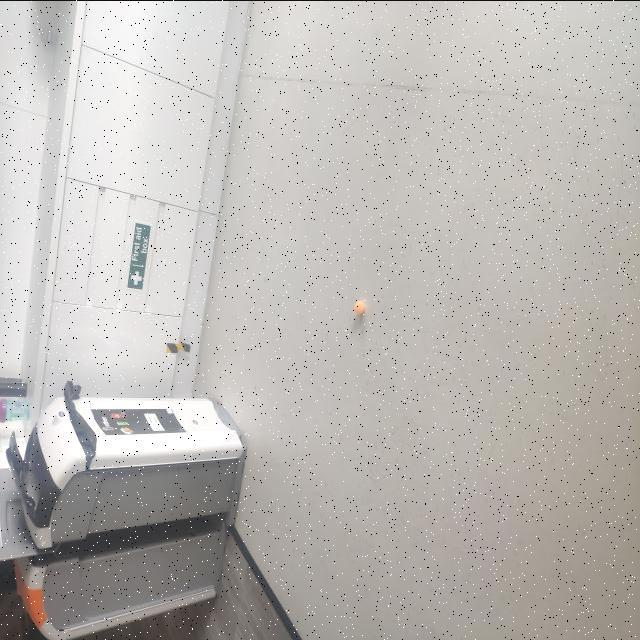ping-pong-ball: (352, 298, 366, 314)
